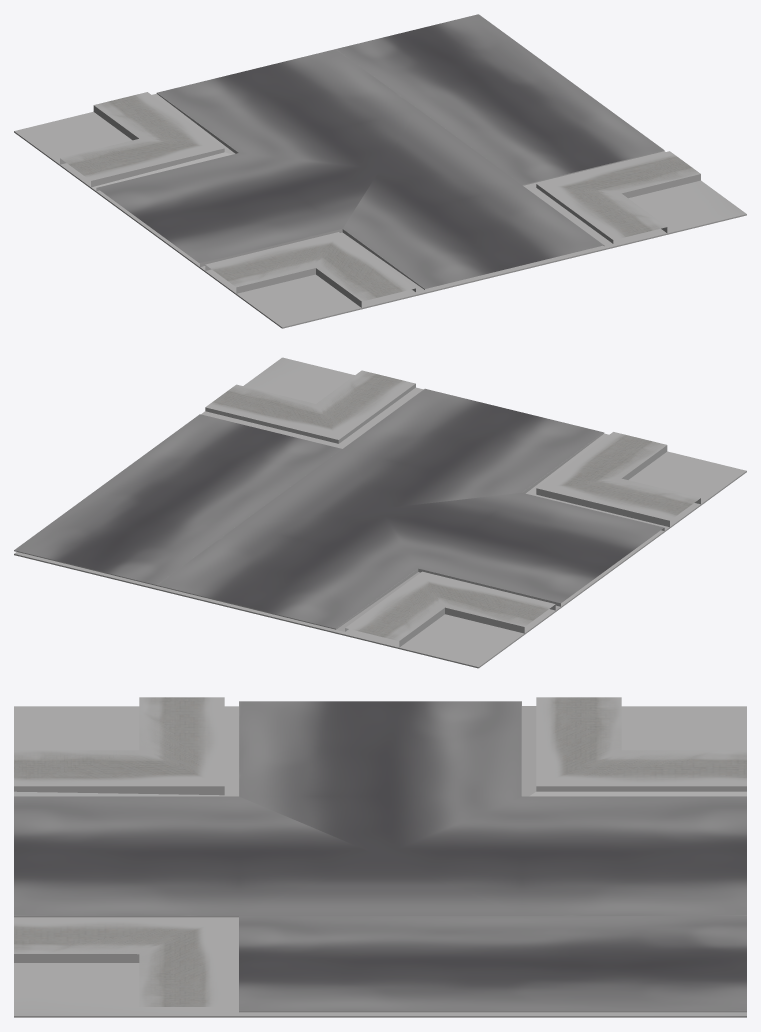
File: Double_Entry_CarPark.fbx
3 renders of one model, top to bottom at view 1: azimuth 30°, elevation 25°; view 2: azimuth 150°, elevation 25°; view 3: azimuth 270°, elevation 25°, orthographic. The views are drawn at different scales.
Visible parts, largest first — view 1: Road_10X61, Road_10X29; view 2: Road_10X61, Road_10X29; view 3: Road_10X61, Road_10X29.
Boxes of the visible parts, x1,y1,x2,y2 form: Road_10X61: (60,14,700,307); Road_10X29: (14,111,746,328); Road_10X61: (14,370,700,647); Road_10X29: (14,357,746,668); Road_10X61: (14,697,746,1012); Road_10X29: (14,706,746,1017).
Size of the model in its own units: 1000 by 16.55 by 1000.
